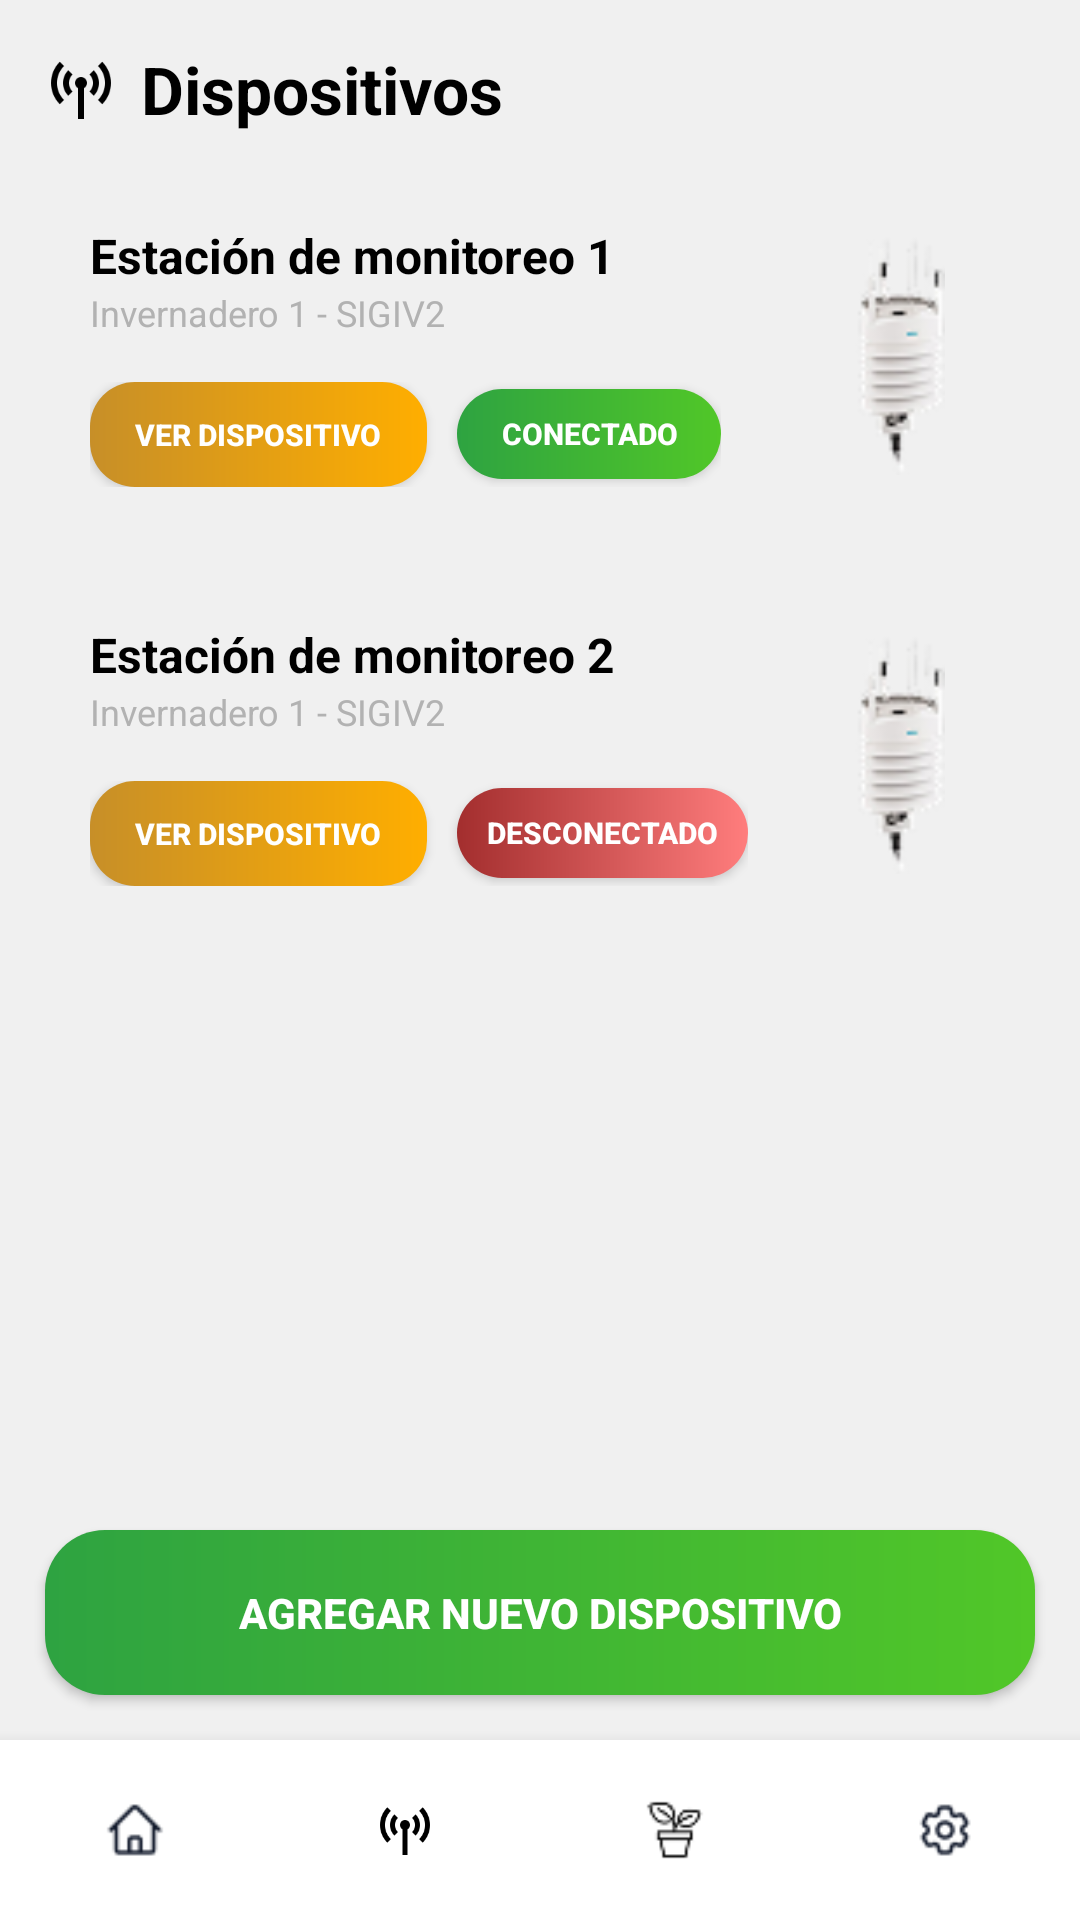

Where icons sit on this 1080×1920 app screen, as (x1, y1, x2, y2):
device radar: (51, 62, 111, 119), (380, 1807, 430, 1855)
fields plantation: (647, 1801, 702, 1859)
home: (107, 1804, 163, 1856)
settings: (920, 1804, 970, 1856)
